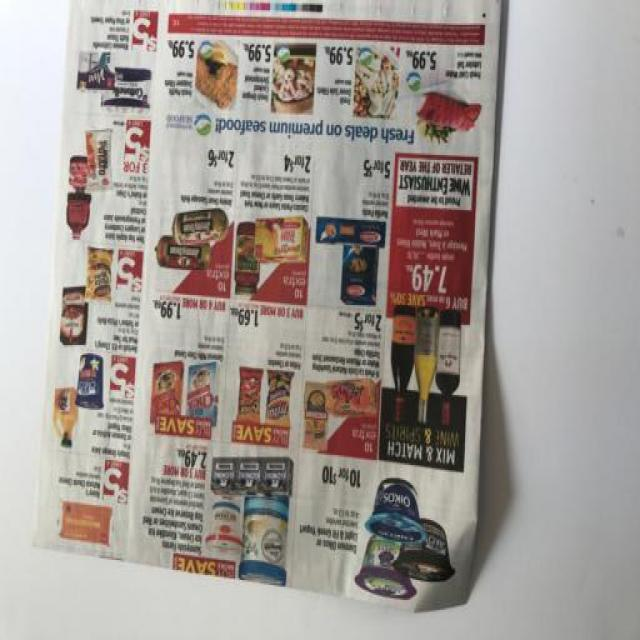paper: (36, 1, 571, 616)
